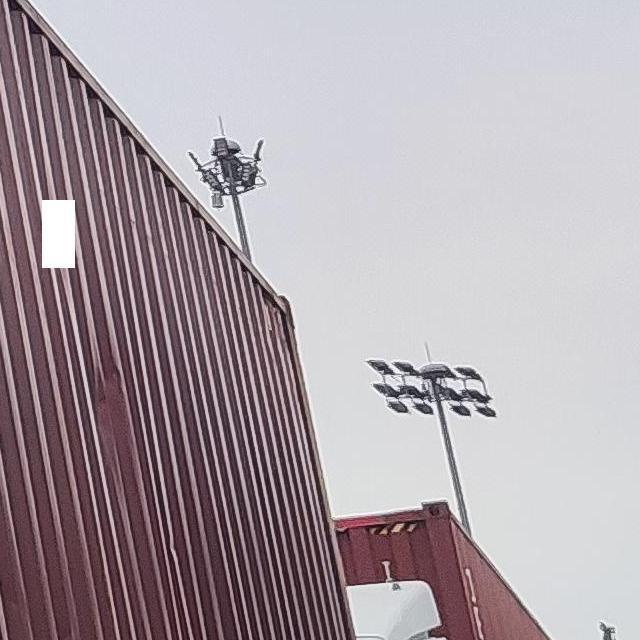dent: (91, 345, 145, 492)
